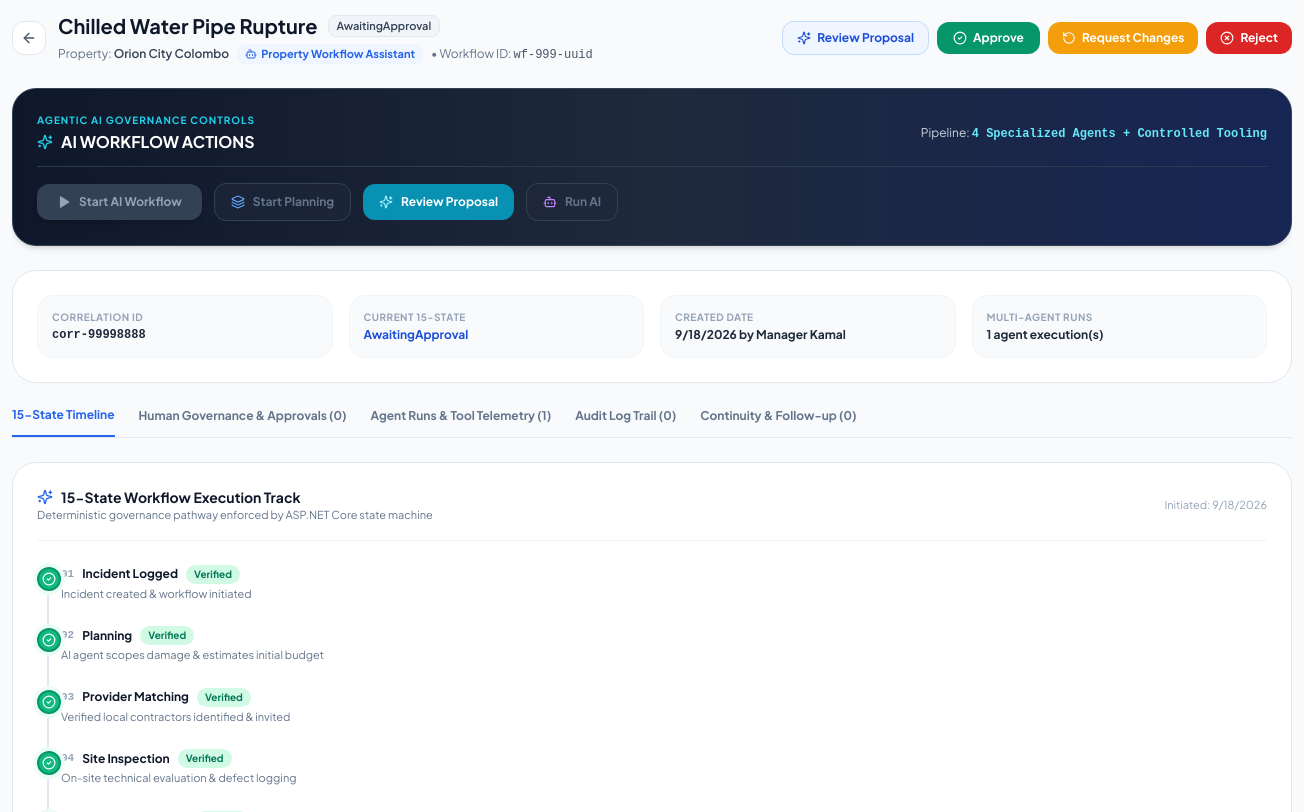
Test: WorkflowDetailPage › switches to Agent Runs tab and displays execution telemetry
Expected: the heading "Chilled Water Pipe Rupture" is shown, [58, 12, 318, 40]
Click the button "Agent Runs & Tool Telemetry (1)". click: (461, 422)
box: [371, 408, 551, 436]
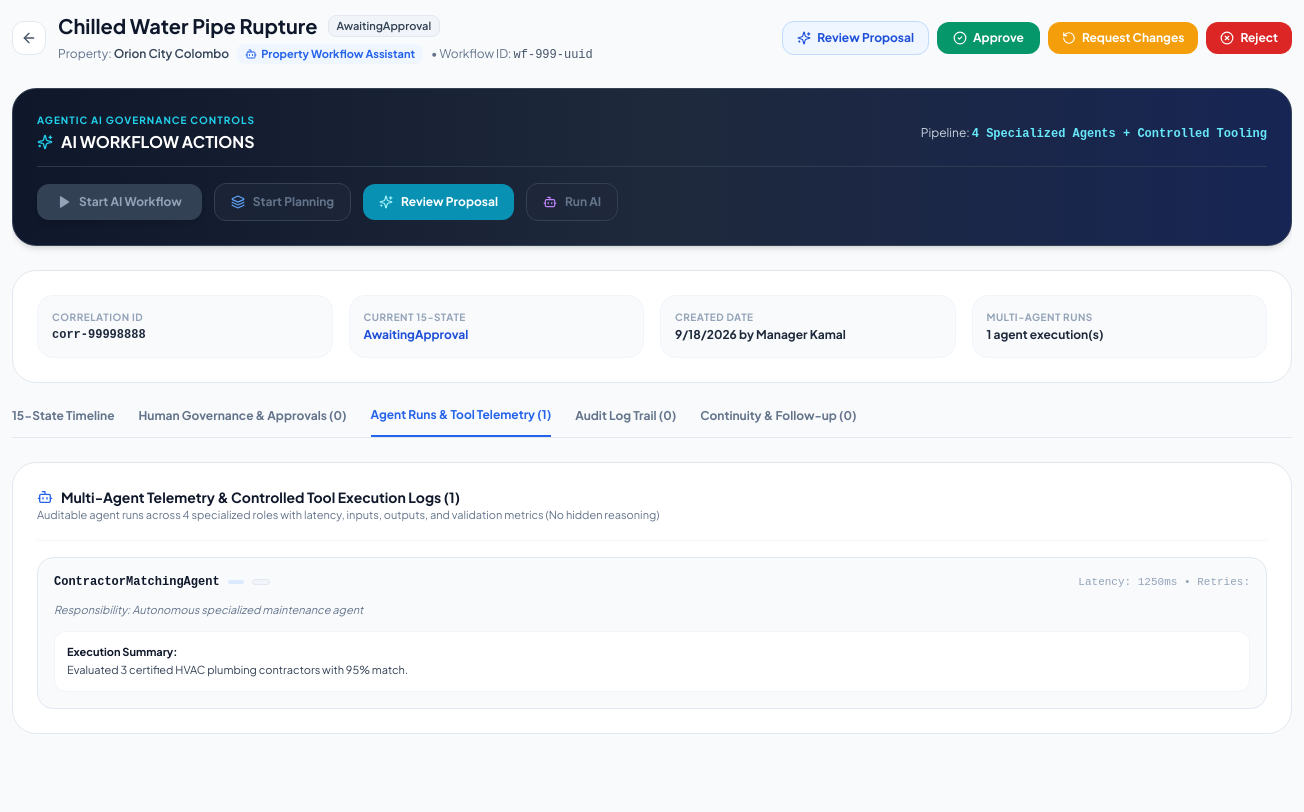
Result: the text "ContractorMatchingAgent" is shown at [54, 574, 220, 590]
Result: the text "Evaluated 3 certified HVAC plumbing contractors" is shown at [67, 663, 408, 676]
Result: the text "Latency: 1250ms • Retries:" is shown at [1078, 574, 1250, 590]
